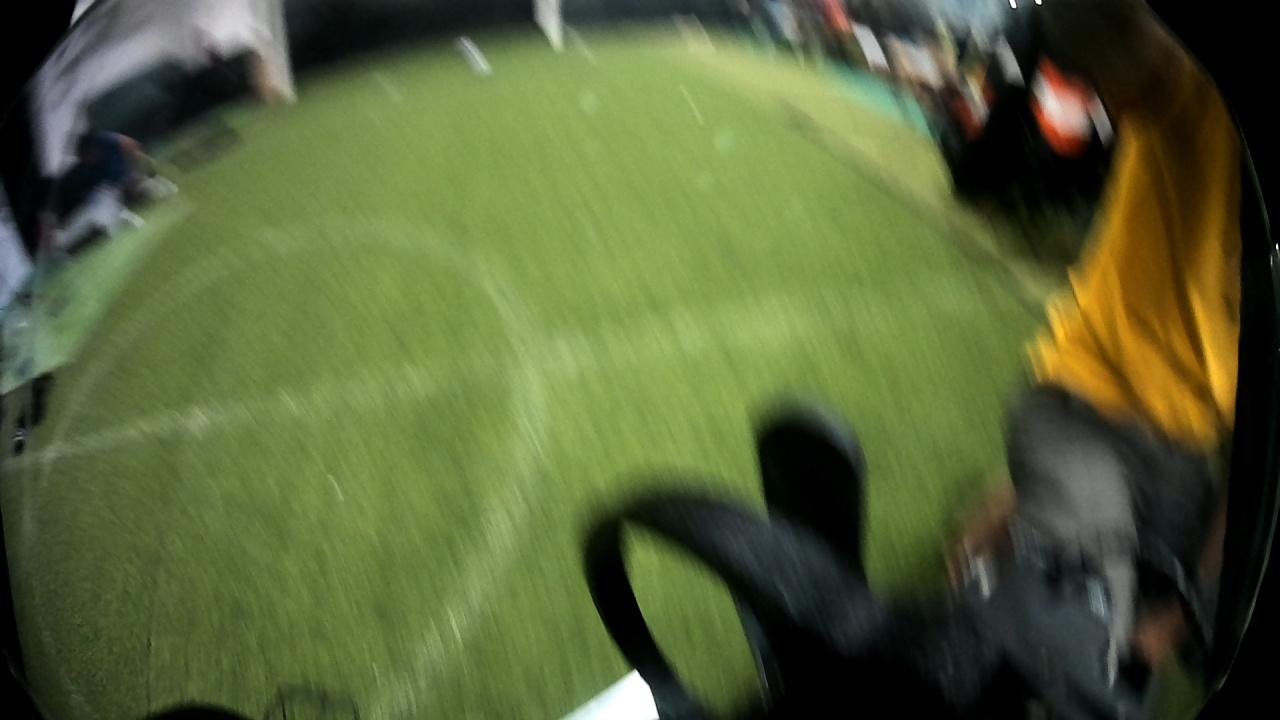ball: (453, 27, 498, 89)
